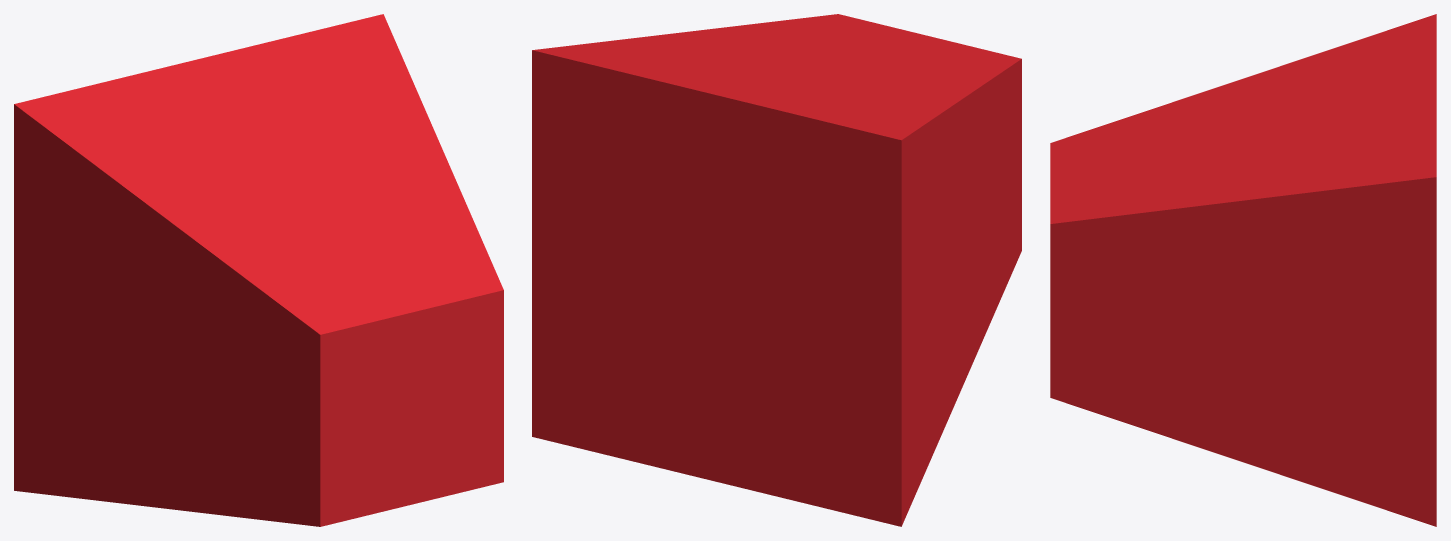
File: smallcube.glb
3 renders of one model, left to right at view 1: azimuth 30°, elevation 25°; view 2: azimuth 150°, elevation 25°; view 3: azimuth 270°, elevation 25°, orthographic. The views are drawn at different scales.
Parts seen in each view (by area): view 1: Cube; view 2: Cube; view 3: Cube.
Part boxes in pixels (<box>): Cube: <box>14,14,503,526</box>; Cube: <box>532,14,1021,526</box>; Cube: <box>1050,14,1436,526</box>.
Bounding box in the file's own units: 0.1 × 0.1 × 0.1.
